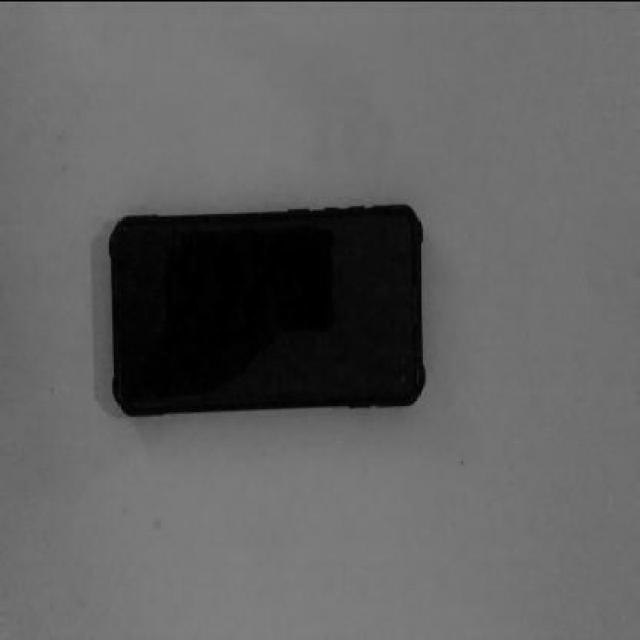fake: (110, 204, 424, 420)
